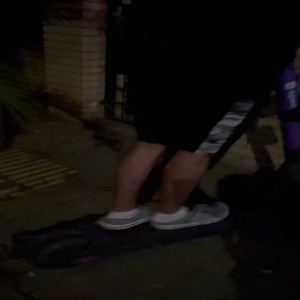human on a scooter: (8, 1, 300, 271)
